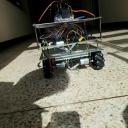cart: (32, 16, 105, 78)
